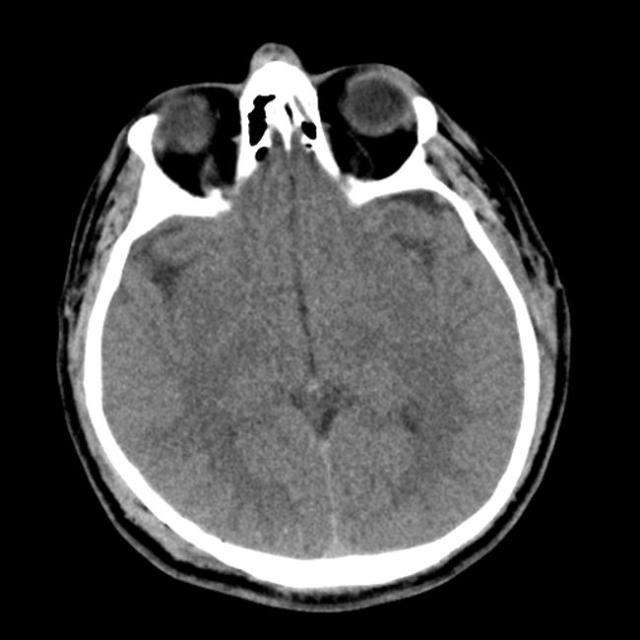lesion: (53, 41, 574, 608)
